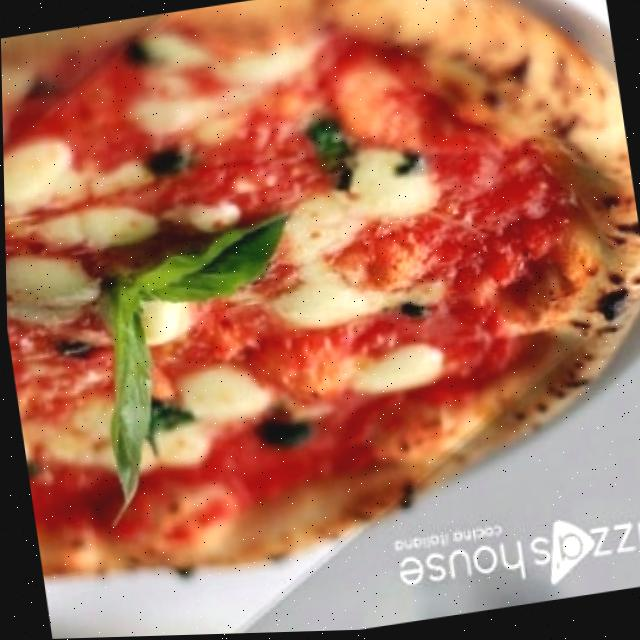basil: (95, 207, 310, 324), (81, 274, 176, 526), (296, 116, 358, 203), (134, 394, 198, 464)
pizza: (0, 0, 640, 595)
